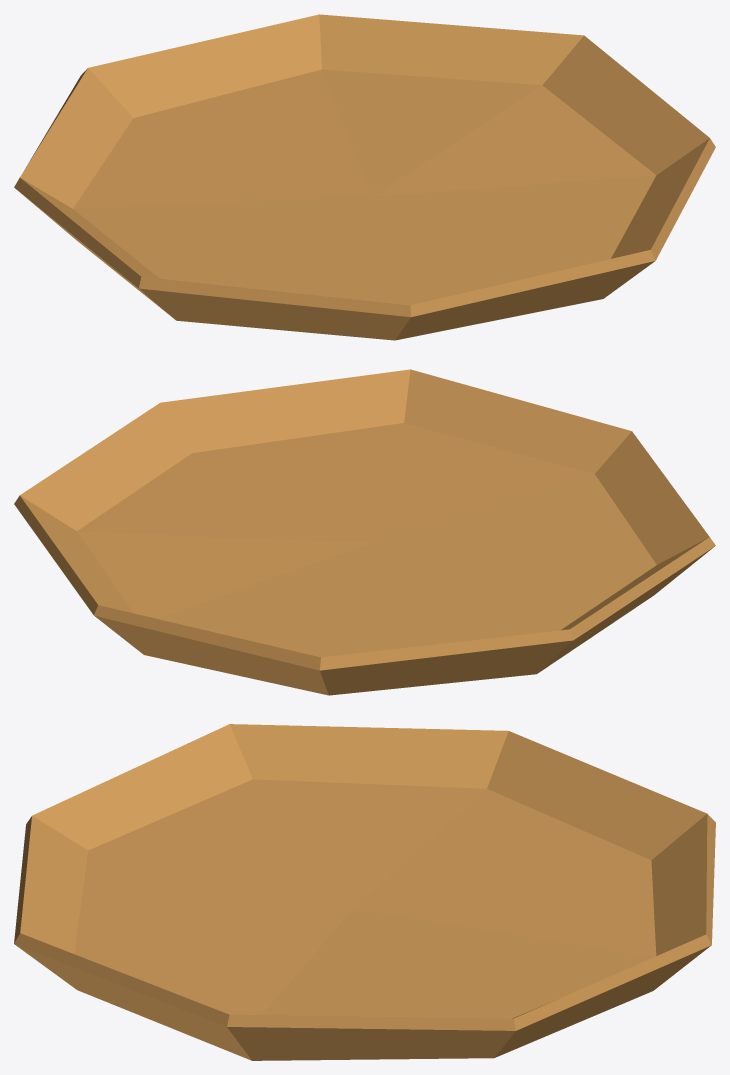
The model's file is SM_Prop_Gold_Plate_04.fbx.
3 renders of one model, top to bottom at view 1: azimuth 30°, elevation 25°; view 2: azimuth 150°, elevation 25°; view 3: azimuth 270°, elevation 25°, orthographic. The views are drawn at different scales.
Visible parts, largest first — view 1: SM_Prop_Gold_Plate_04; view 2: SM_Prop_Gold_Plate_04; view 3: SM_Prop_Gold_Plate_04.
Part boxes in pixels (box(x1,y1,x2,y2)): SM_Prop_Gold_Plate_04: box(14, 14, 715, 340); SM_Prop_Gold_Plate_04: box(14, 369, 715, 695); SM_Prop_Gold_Plate_04: box(14, 724, 715, 1060).
Bounding box in the file's own units: 86.18 × 9.63 × 85.03.
